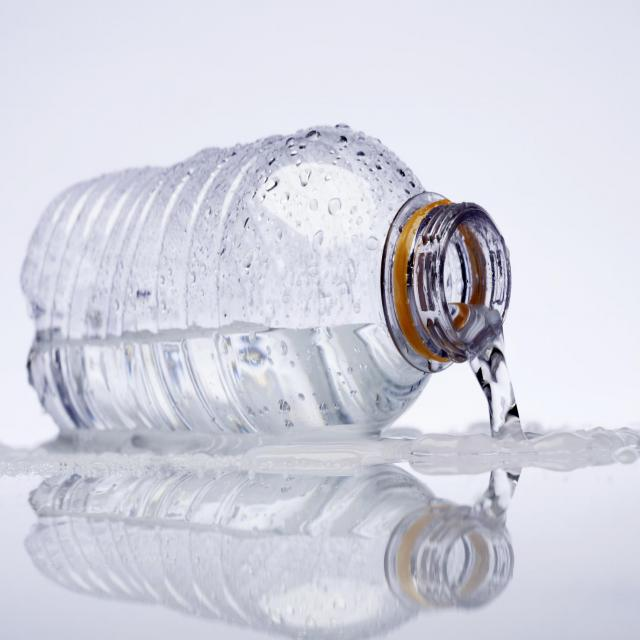bottle: (11, 139, 522, 436)
